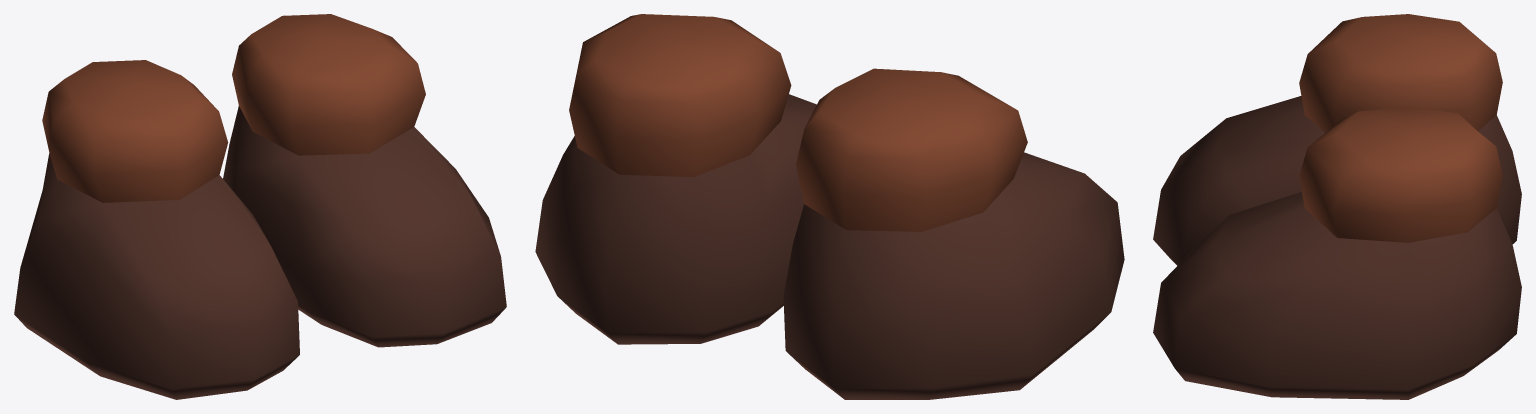
Rendered from Shoes_47.fbx.
3 renders of one model, left to right at view 1: azimuth 30°, elevation 25°; view 2: azimuth 150°, elevation 25°; view 3: azimuth 270°, elevation 25°, orthographic. The views are drawn at different scales.
Parts seen in each view (by area): view 1: Shoes_47; view 2: Shoes_47; view 3: Shoes_47.
Part boxes in pixels (x1,y1,x2,y2): Shoes_47: [14, 14, 506, 399]; Shoes_47: [535, 14, 1124, 399]; Shoes_47: [1153, 14, 1521, 399].
Size of the model in its own units: 44.6 by 22.44 by 33.88.
